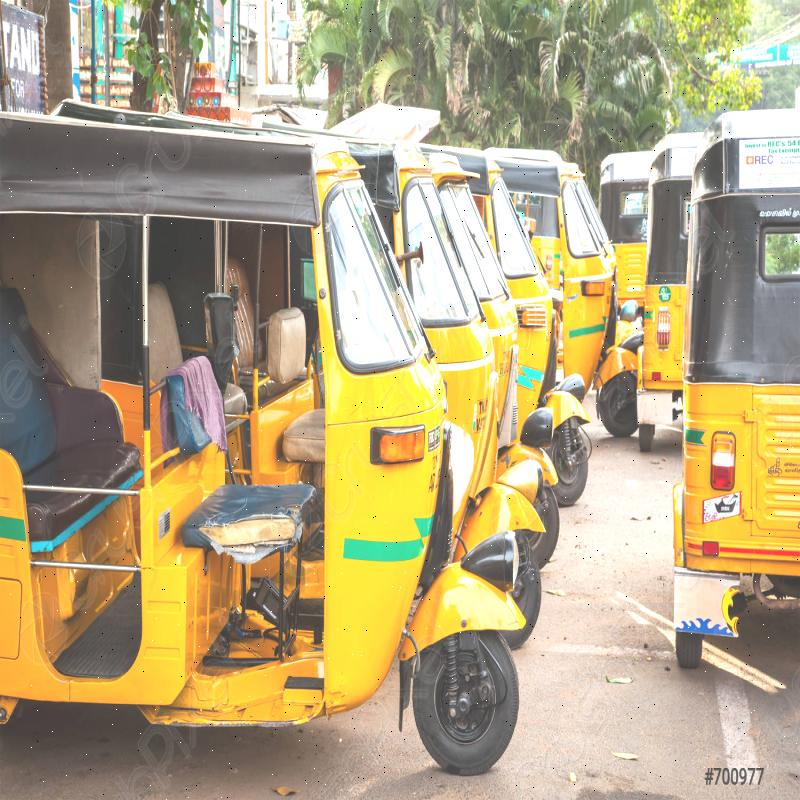auto: (6, 78, 510, 754)
